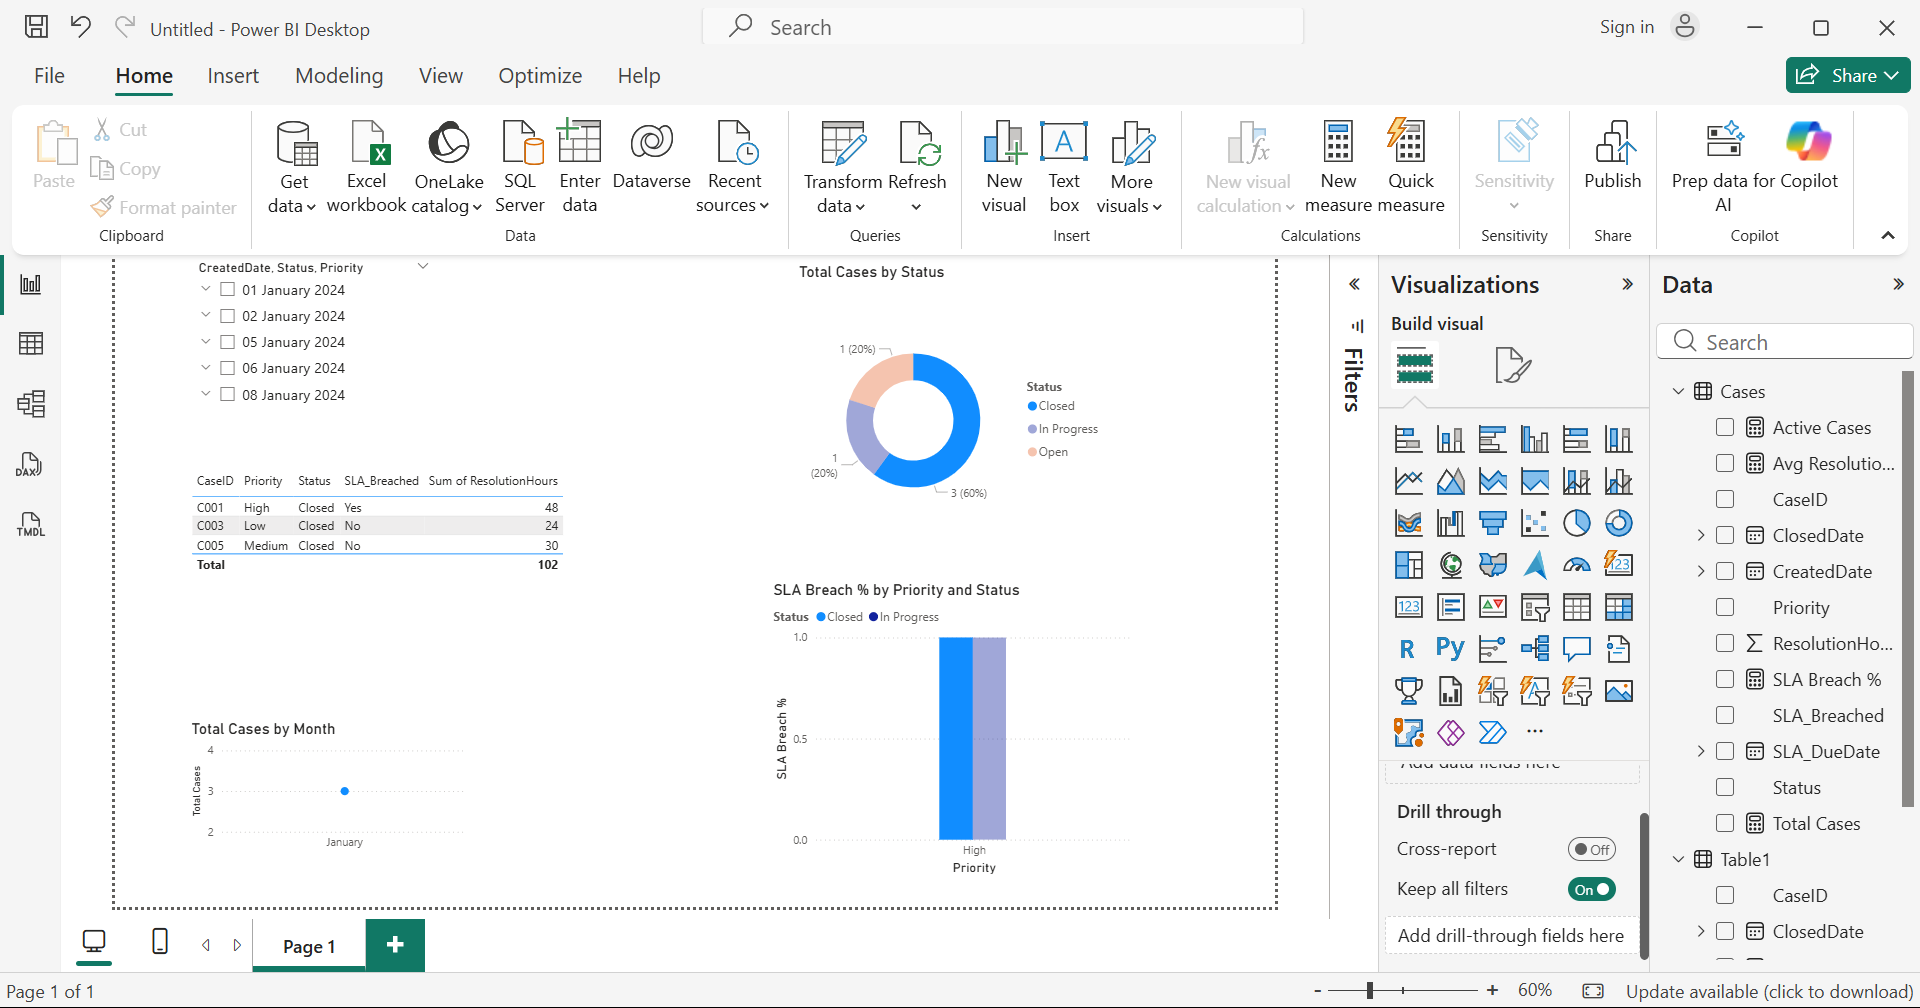

What the dashboard file says about the page in this screenshot:
{"tool":"powerbi","page":{"name":"Page 1","canvas":[1280,720],"ordinal":0},"visuals":[{"type":"slicer","fields":{"Values":["Cases.CreatedDate","Cases.Status","Cases.Priority"]},"box":[79.4,0,279.7,279.7],"z":0},{"type":"tableEx","fields":{"Values":["Cases.CaseID","Cases.Priority","Cases.Status","Cases.SLA_Breached","Sum(Cases.ResolutionHours)"]},"box":[79.5,233.6,452.2,164],"z":1000},{"type":"lineChart","fields":{"Category":["Cases.CreatedDate.Variation.Date Hierarchy.Month"],"Y":["Cases.Total Cases"]},"box":[79.4,514,313.7,153.1],"z":2000},{"type":"donutChart","fields":{"Category":["Cases.Status"],"Y":["Cases.Total Cases"]},"box":[750.2,7.6,349.6,328.8],"z":3000},{"type":"clusteredColumnChart","fields":{"Category":["Cases.Priority"],"Y":["Cases.SLA Breach %"],"Series":["Cases.Status"]},"box":[721.9,359.1,406.3,328.8],"z":4000}]}

Visuals, with their boxes on the page's 1280x720 design canvas (x1, y1, x2, y2). These are canvas units, not pixel positions in the 1920x1008 screenshot, which may show the page scaled, cropped or inside an application window:
slicer - Cases.CreatedDate x Cases.Status: {"left": 79, "top": 0, "right": 359, "bottom": 280}
tableEx - Cases.CaseID x Cases.Priority: {"left": 80, "top": 234, "right": 532, "bottom": 398}
lineChart - Cases.CreatedDate.Variation.Date Hierarchy.Month x Cases.Total Cases: {"left": 79, "top": 514, "right": 393, "bottom": 667}
donutChart - Cases.Status x Cases.Total Cases: {"left": 750, "top": 8, "right": 1100, "bottom": 336}
clusteredColumnChart - Cases.Priority x Cases.SLA Breach %: {"left": 722, "top": 359, "right": 1128, "bottom": 688}
